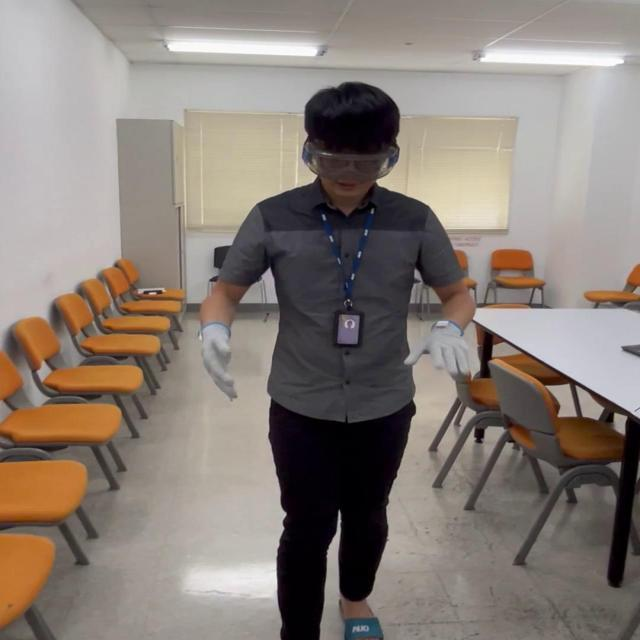gloved_hand: (416, 316, 478, 379), (203, 324, 252, 396)
